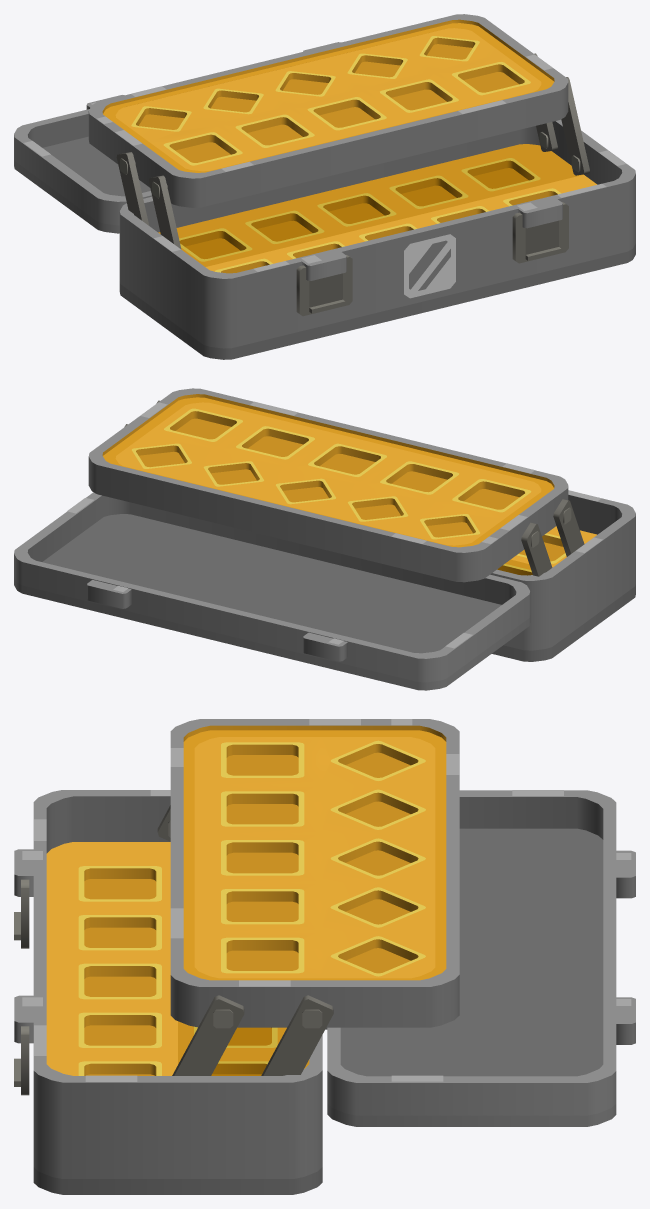
Rendered from beBoxExpansionStone.obj.
The picture shows the model from 3 angles, top to bottom: view 1: azimuth 30°, elevation 25°; view 2: azimuth 150°, elevation 25°; view 3: azimuth 270°, elevation 25°; orthographic projection. The views are drawn at different scales.
Parts seen in each view (by area): view 1: beBoxExpansionStone; view 2: beBoxExpansionStone; view 3: beBoxExpansionStone.
Part boxes in pixels (x1,y1,x2,y2): beBoxExpansionStone: (14, 14, 635, 359); beBoxExpansionStone: (14, 388, 635, 690); beBoxExpansionStone: (14, 719, 635, 1194).
Size of the model in its own units: 9.29 by 2.9 by 8.34.
1 material, 1 textured.
